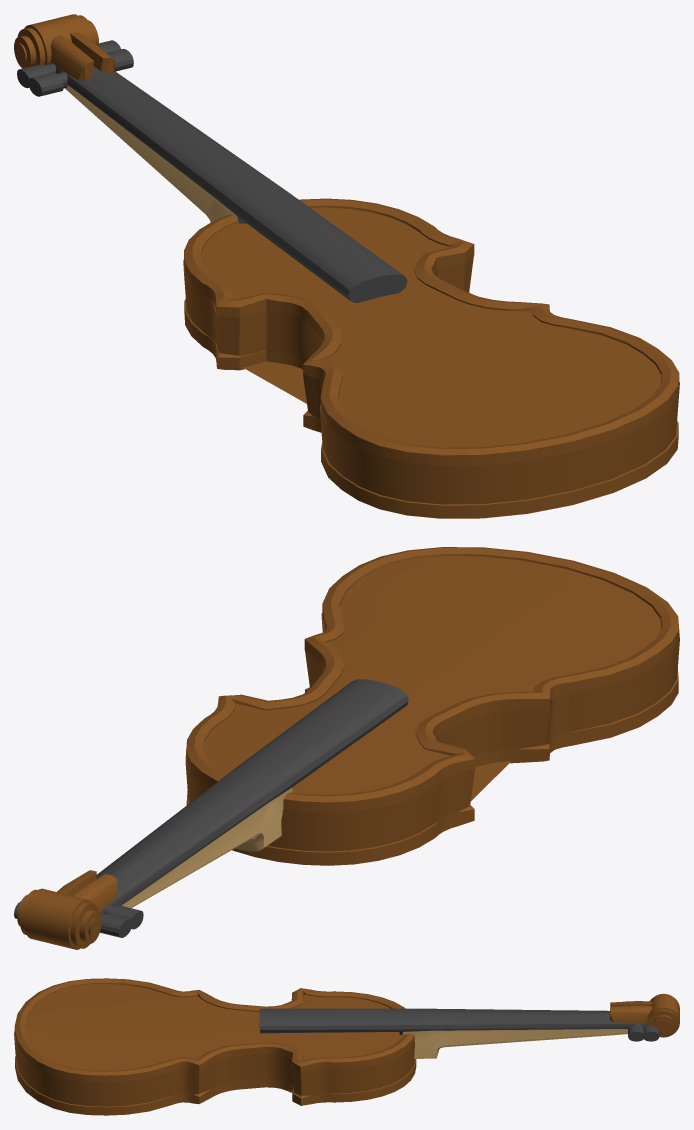
Rendered from Violin_1.fbx.
3 renders of one model, top to bottom at view 1: azimuth 30°, elevation 25°; view 2: azimuth 150°, elevation 25°; view 3: azimuth 270°, elevation 25°, orthographic. The views are drawn at different scales.
Parts seen in each view (by area): view 1: Circle.006; view 2: Circle.006; view 3: Circle.006.
Part boxes in pixels (x1,y1,x2,y2): Circle.006: [14, 14, 679, 518]; Circle.006: [14, 547, 679, 949]; Circle.006: [14, 978, 679, 1115].
Bounding box in the file's own units: 19.97 × 6.48 × 57.57.
